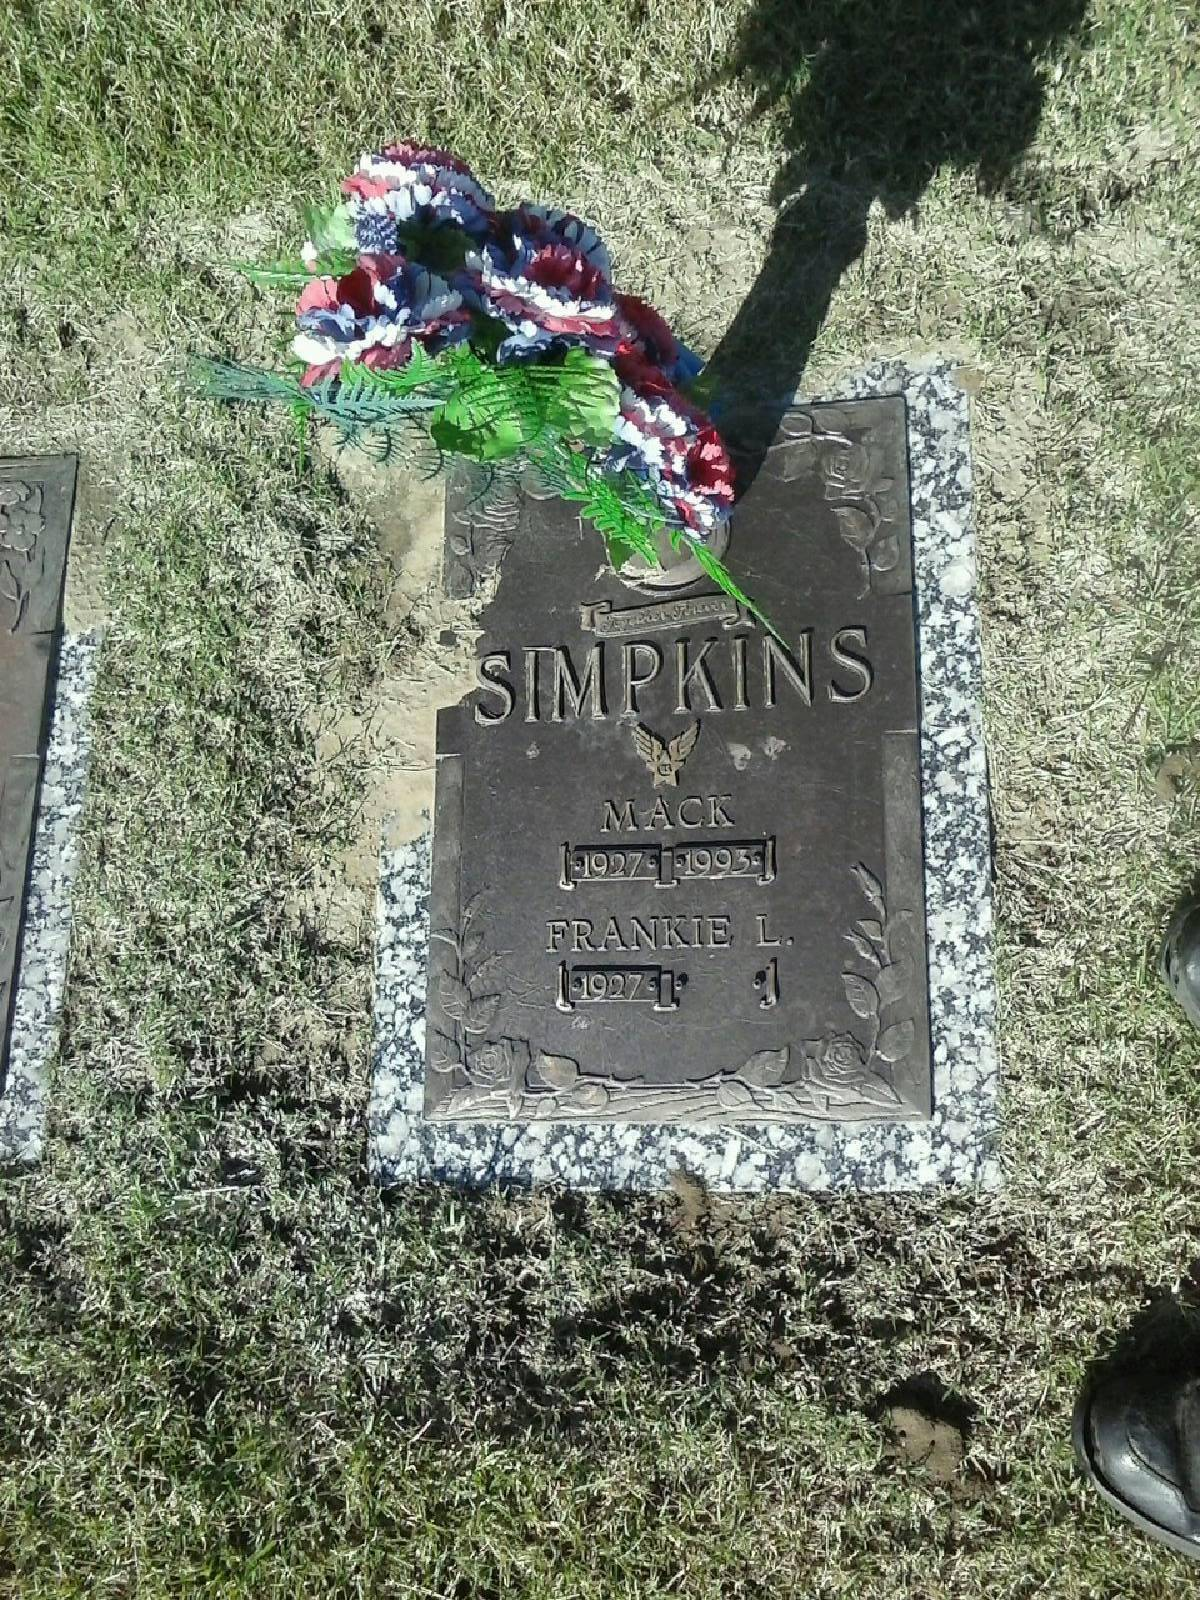flat: (334, 325, 1000, 1173)
